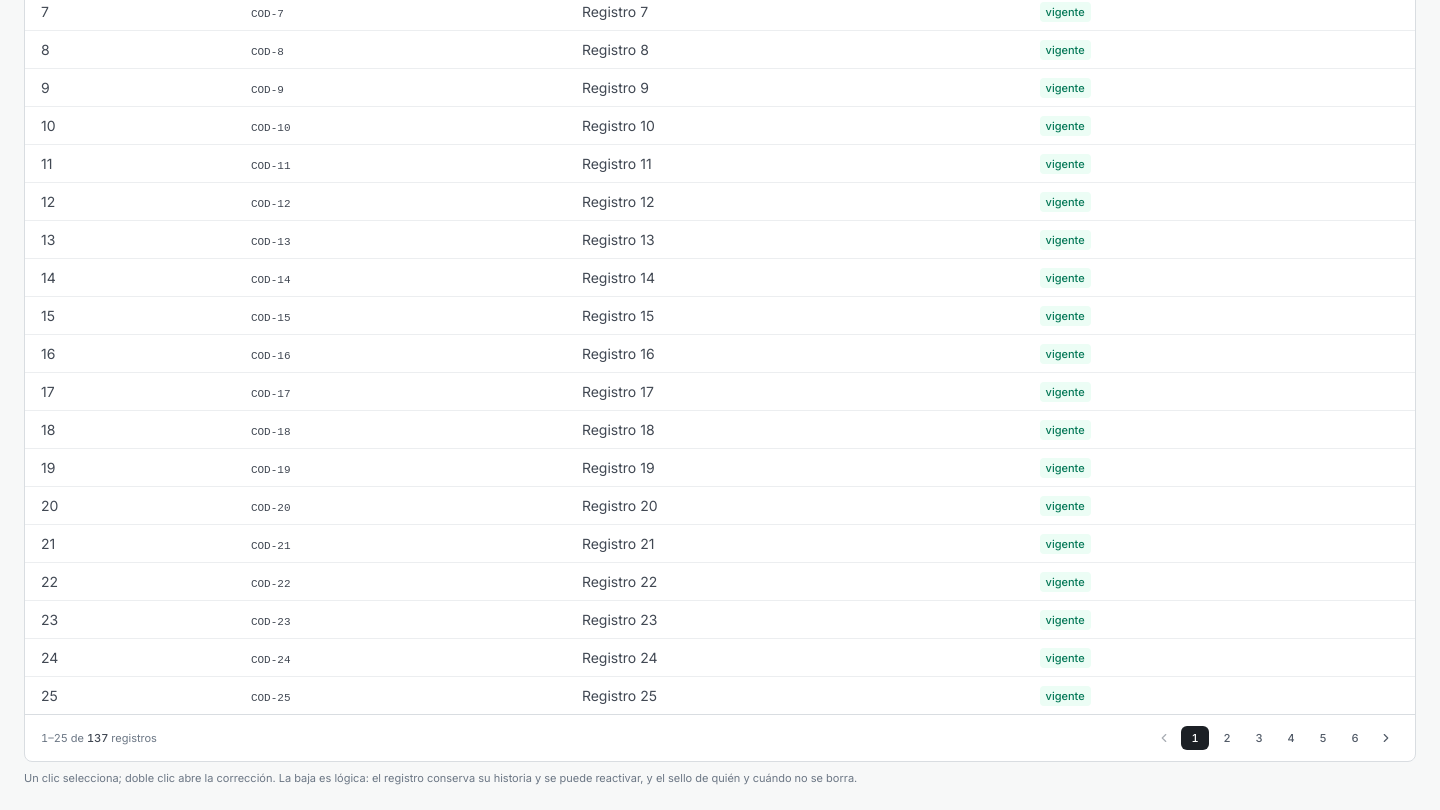
it: Catalogos - paginacion › cambiar de pagina pide el siguiente bloque al backend
(page scrolled)
Click the button named "Página siguiente" at (1386, 738), box x1=1373 y1=725 x2=1399 y2=751
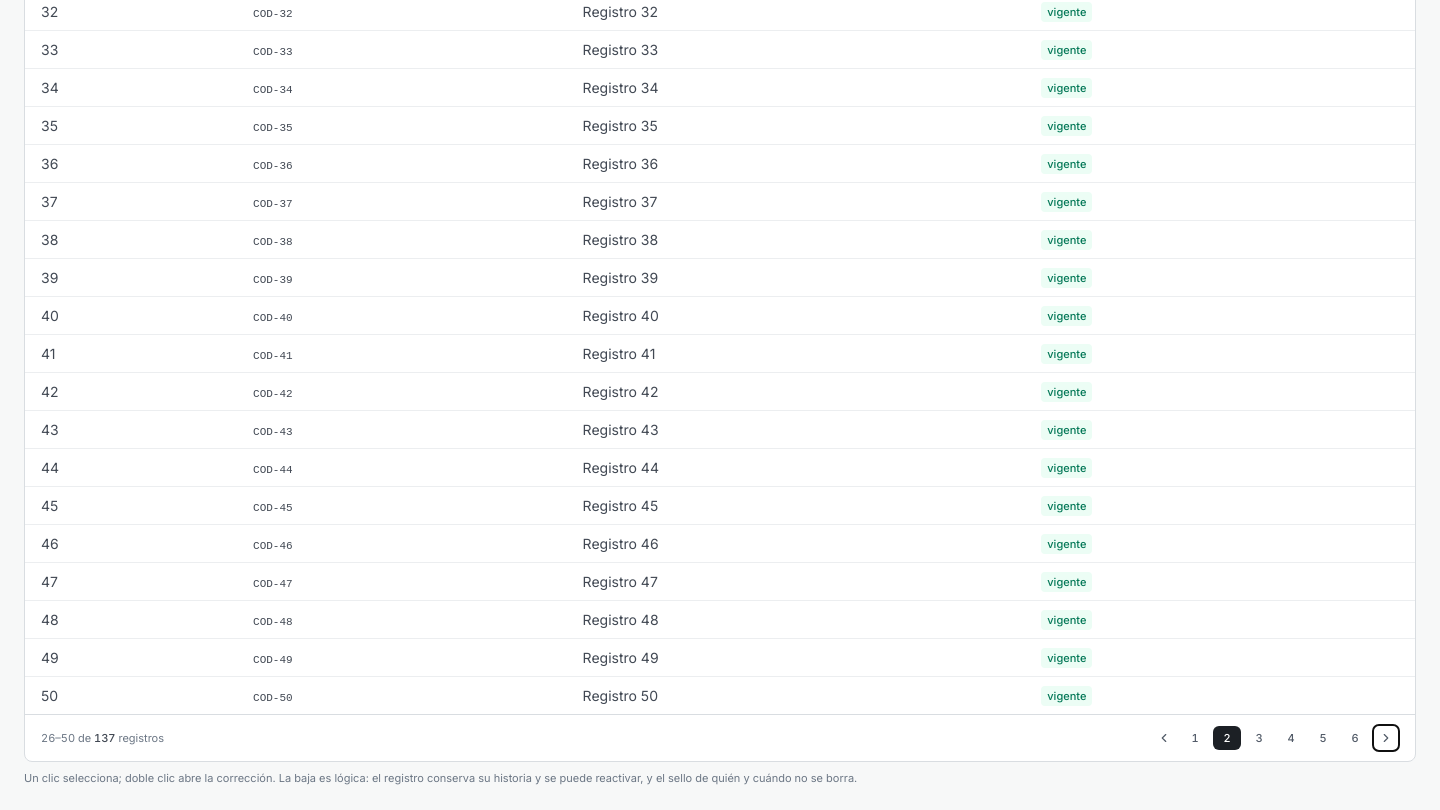
Expected: the text "26–50 de 137 registros" is shown, x1=41 y1=730 x2=164 y2=746
